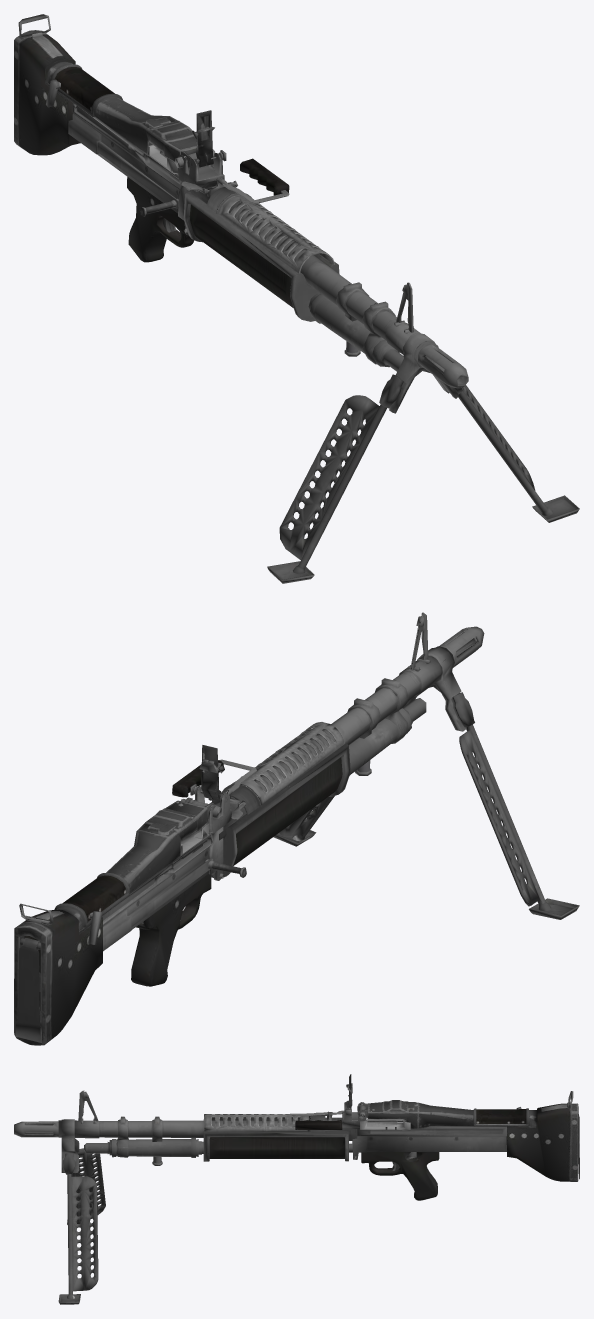
The picture shows the model from 3 angles, top to bottom: view 1: azimuth 30°, elevation 25°; view 2: azimuth 150°, elevation 25°; view 3: azimuth 270°, elevation 25°; orthographic projection. The views are drawn at different scales.
Visible parts, largest first — view 1: polySurface285_body_m_0, polySurface285_bits_m_0, polySurface239_body_m_0, polySurface245_body_m_0, polySurface237_body_m_0, polySurface248_bits_m_0, polySurface284_bits_m_0; view 2: polySurface285_body_m_0, polySurface285_bits_m_0, polySurface239_body_m_0, polySurface156_bits_m_0, polySurface237_body_m_0, polySurface245_body_m_0, polySurface284_bits_m_0, polySurface248_bits_m_0; view 3: polySurface285_body_m_0, polySurface285_bits_m_0, polySurface245_body_m_0, polySurface239_body_m_0, polySurface248_bits_m_0.
Boxes of the visible parts, x1,y1,x2,y2 form: polySurface285_body_m_0: (14, 30, 339, 321); polySurface285_bits_m_0: (18, 14, 468, 413); polySurface239_body_m_0: (267, 374, 403, 583); polySurface245_body_m_0: (454, 385, 579, 522); polySurface237_body_m_0: (97, 142, 178, 216); polySurface248_bits_m_0: (216, 158, 289, 203); polySurface284_bits_m_0: (192, 110, 214, 167); polySurface285_body_m_0: (14, 722, 350, 1045); polySurface285_bits_m_0: (19, 612, 484, 949); polySurface239_body_m_0: (451, 692, 579, 919); polySurface156_bits_m_0: (15, 938, 42, 1042); polySurface237_body_m_0: (129, 858, 246, 926); polySurface245_body_m_0: (273, 775, 349, 846); polySurface284_bits_m_0: (199, 745, 224, 800); polySurface248_bits_m_0: (172, 759, 256, 797); polySurface285_body_m_0: (203, 1100, 578, 1200); polySurface285_bits_m_0: (14, 1090, 573, 1172); polySurface245_body_m_0: (58, 1153, 98, 1304); polySurface239_body_m_0: (67, 1148, 105, 1224); polySurface248_bits_m_0: (288, 1112, 342, 1129).
Size of the model in its own units: 0.4283 by 0.3969 by 1.1.
2 materials, 2 textured.
